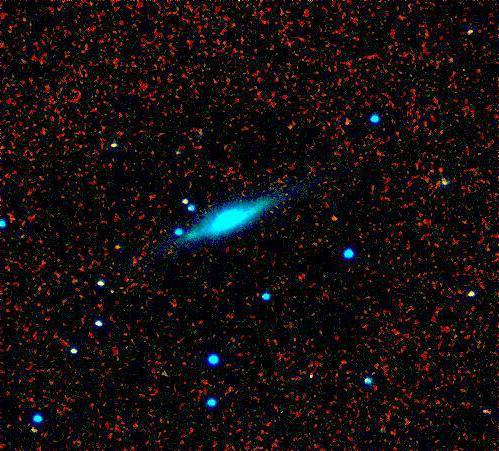star: (104, 229, 134, 259)
